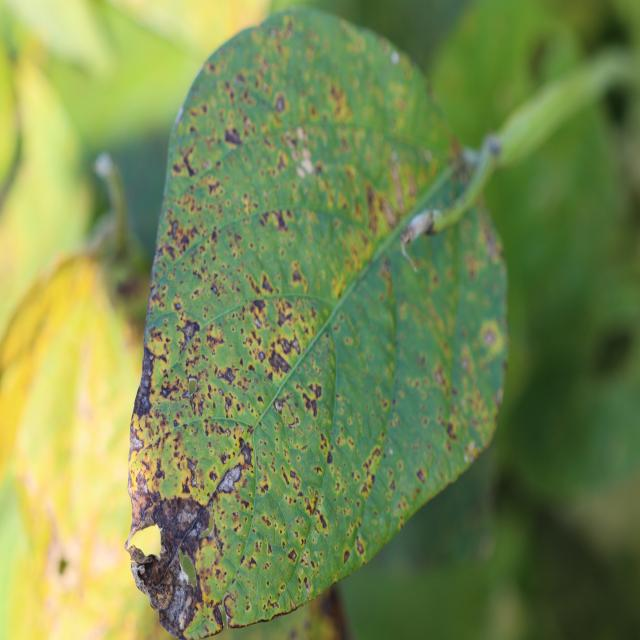Bacterial_Blight: (148, 496, 214, 565), (386, 153, 413, 217), (164, 214, 202, 254), (113, 268, 147, 306), (216, 358, 243, 400), (450, 146, 476, 186), (259, 208, 294, 233), (362, 445, 383, 482), (216, 465, 242, 494), (268, 347, 293, 376), (483, 226, 502, 264), (176, 318, 200, 346), (301, 386, 320, 417), (204, 326, 226, 352), (180, 148, 198, 178), (222, 593, 237, 626), (484, 135, 503, 159), (276, 306, 295, 328), (304, 489, 319, 516), (129, 427, 144, 453), (136, 552, 155, 571), (224, 126, 242, 146), (186, 457, 199, 483), (239, 441, 253, 465), (249, 298, 266, 317), (159, 380, 176, 399), (299, 155, 314, 176), (424, 214, 438, 236), (260, 274, 275, 294), (285, 130, 300, 150), (138, 394, 152, 414), (291, 263, 304, 284), (483, 328, 496, 346), (434, 368, 446, 387), (174, 105, 184, 126), (446, 422, 457, 441), (275, 94, 286, 113), (154, 461, 165, 479), (416, 467, 427, 484), (281, 467, 290, 486), (178, 609, 186, 629), (219, 451, 230, 465), (356, 536, 364, 554), (287, 548, 297, 562), (248, 556, 258, 570), (198, 396, 205, 416), (299, 552, 309, 566), (461, 356, 470, 371), (210, 283, 220, 296), (390, 51, 400, 64), (201, 620, 210, 634), (467, 440, 476, 454), (292, 339, 300, 354), (274, 400, 283, 413), (151, 490, 160, 503), (182, 389, 192, 400), (209, 470, 218, 482), (343, 549, 350, 564), (290, 596, 297, 611), (327, 451, 333, 464), (258, 351, 265, 362), (305, 580, 310, 595), (173, 418, 179, 428), (226, 428, 231, 437), (280, 583, 285, 591), (388, 447, 393, 455), (240, 427, 245, 434)
Soybean: (125, 8, 510, 640)
